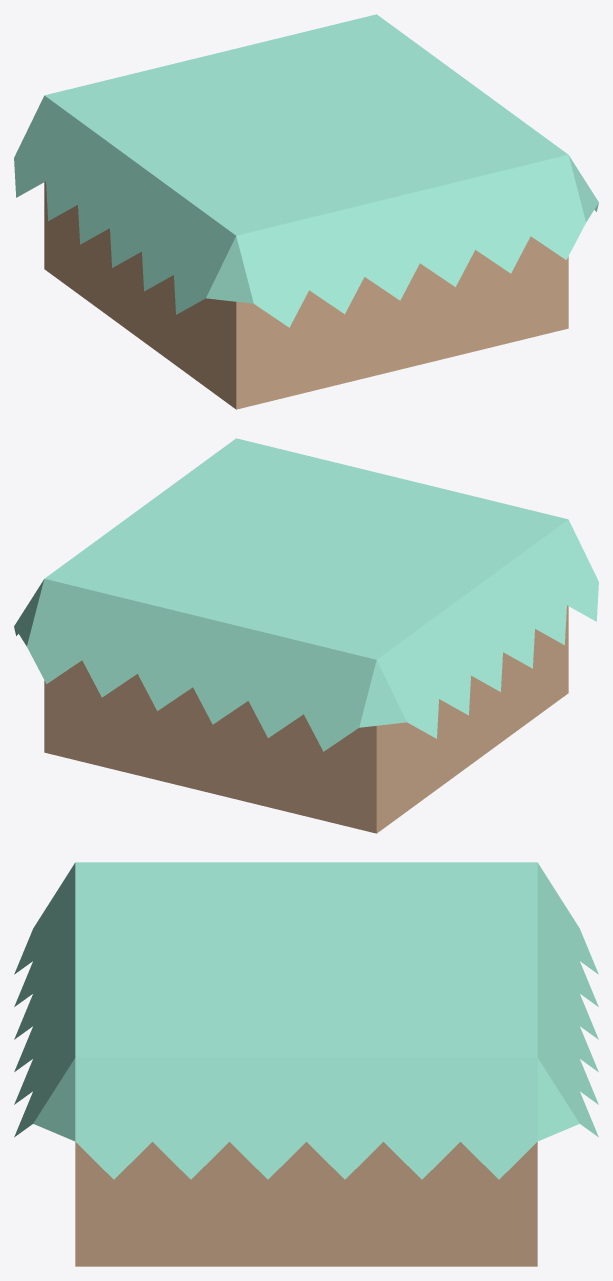
The picture shows the model from 3 angles, top to bottom: view 1: azimuth 30°, elevation 25°; view 2: azimuth 150°, elevation 25°; view 3: azimuth 270°, elevation 25°; orthographic projection. The views are drawn at different scales.
Parts seen in each view (by area): view 1: blockHalf; view 2: blockHalf; view 3: blockHalf.
Boxes of the visible parts, x1=… form: blockHalf: x1=14, y1=14, x2=598, y2=409; blockHalf: x1=14, y1=438, x2=598, y2=833; blockHalf: x1=14, y1=862, x2=598, y2=1266.
Bounding box in the file's own units: 1.27 × 0.5 × 1.27.
